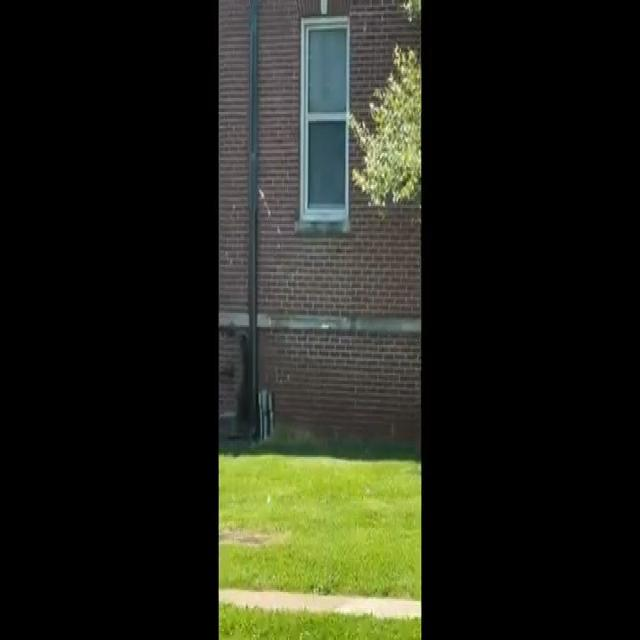drone: (314, 314, 340, 342)
